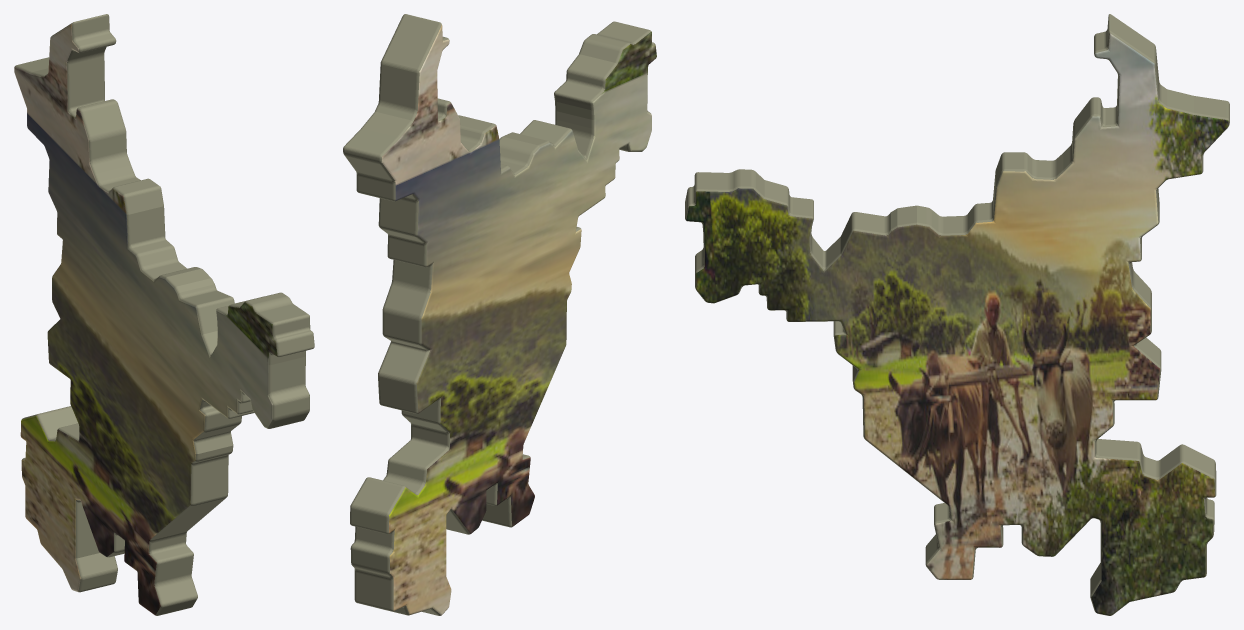
The model's file is Haryana.glb.
3 views of the same model, side by side, from view 1: azimuth 30°, elevation 25°; view 2: azimuth 150°, elevation 25°; view 3: azimuth 270°, elevation 25° (orthographic). The views are drawn at different scales.
Visible parts, largest first — view 1: Object_12; view 2: Object_12; view 3: Object_12.
Boxes of the visible parts, bbox=[...] form: Object_12: bbox=[14, 14, 314, 615]; Object_12: bbox=[343, 14, 656, 615]; Object_12: bbox=[685, 14, 1229, 615].
Size of the model in its own units: 0.0366 by 0.5172 by 0.4364.
1 material, 1 textured.
